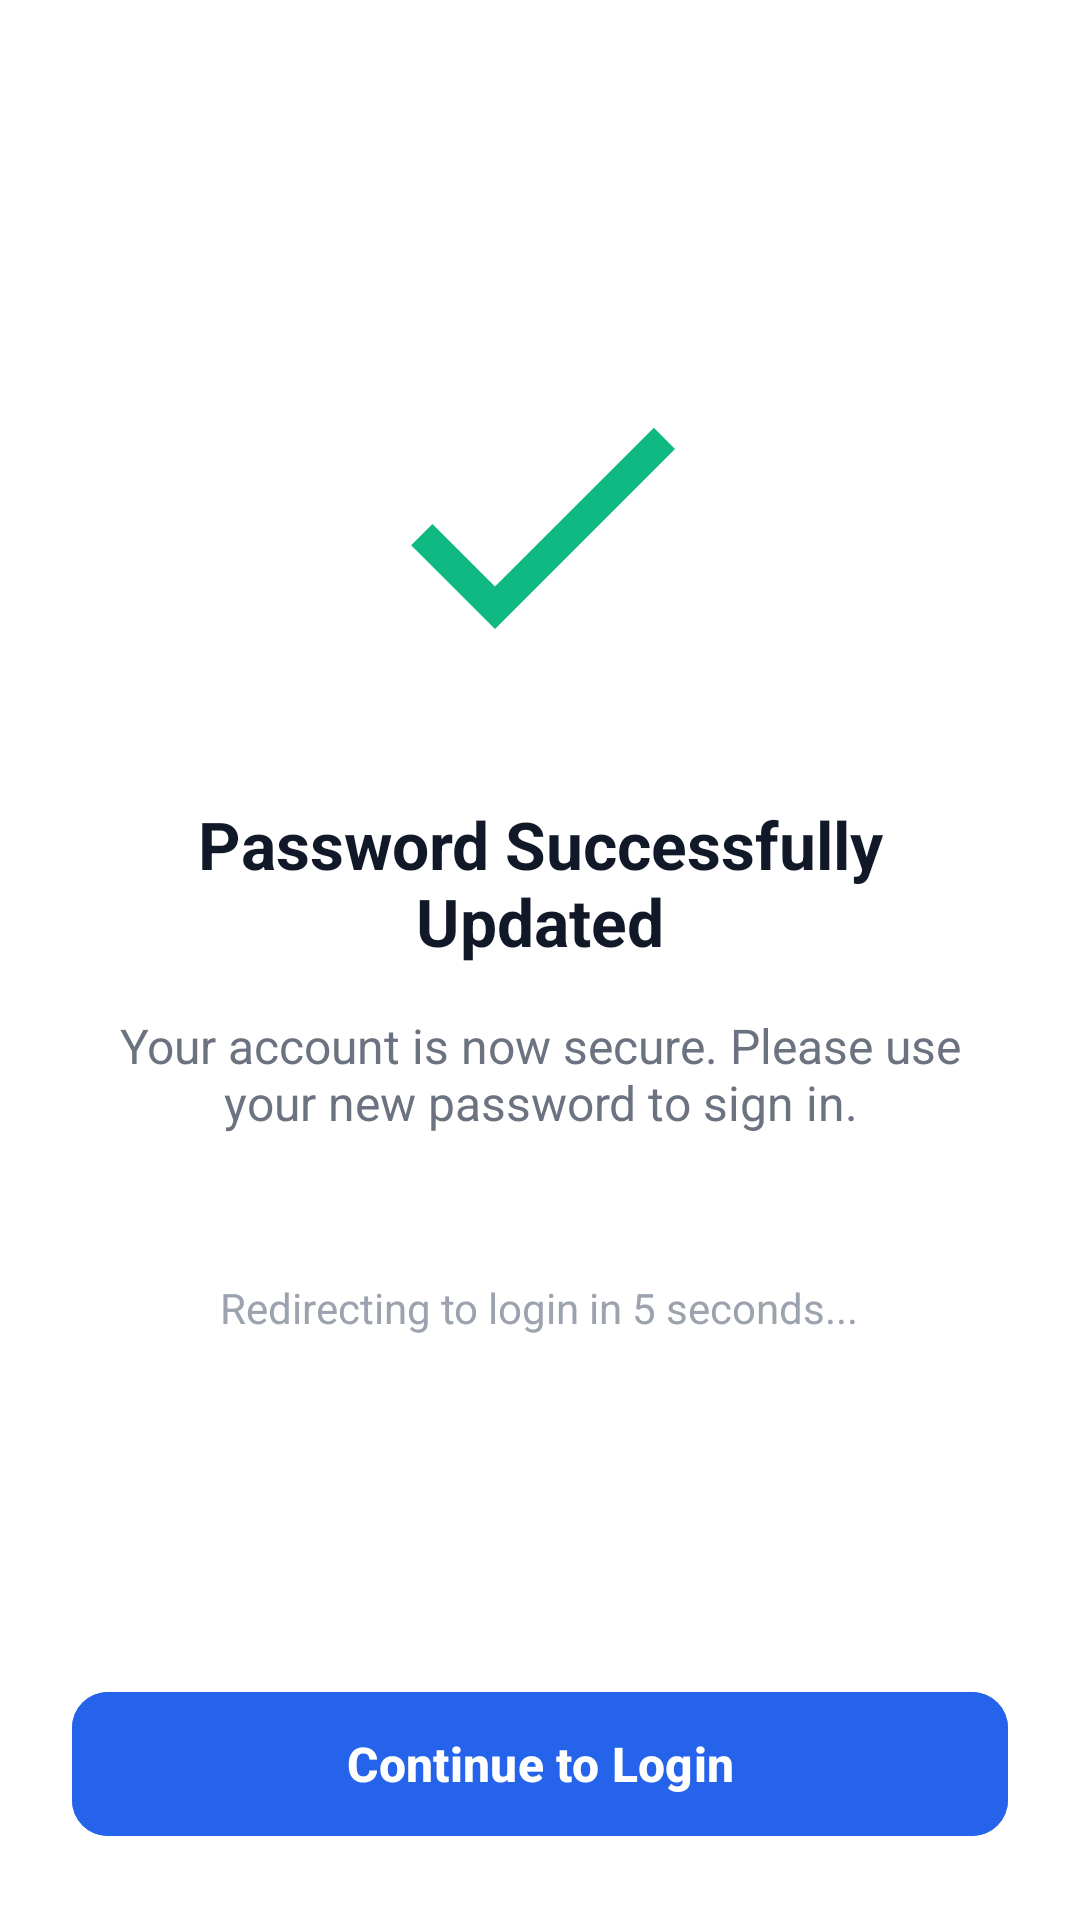

Where icons sit on this 1080w x 1920h app screen, as (x1, y1, x2, y2):
check: (411, 428, 675, 629)
